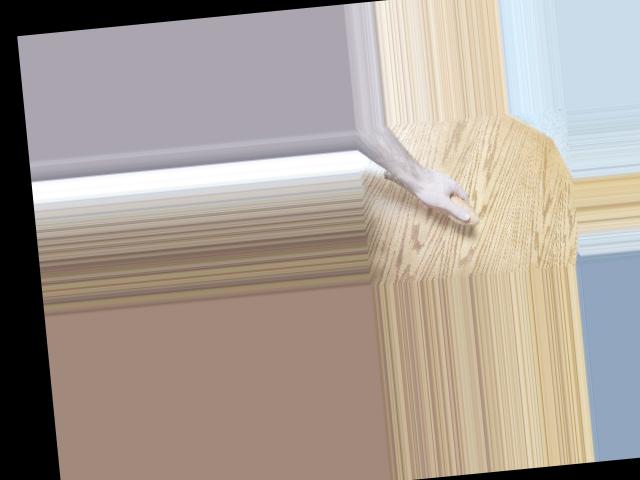sweet_potato: (380, 161, 479, 234)
